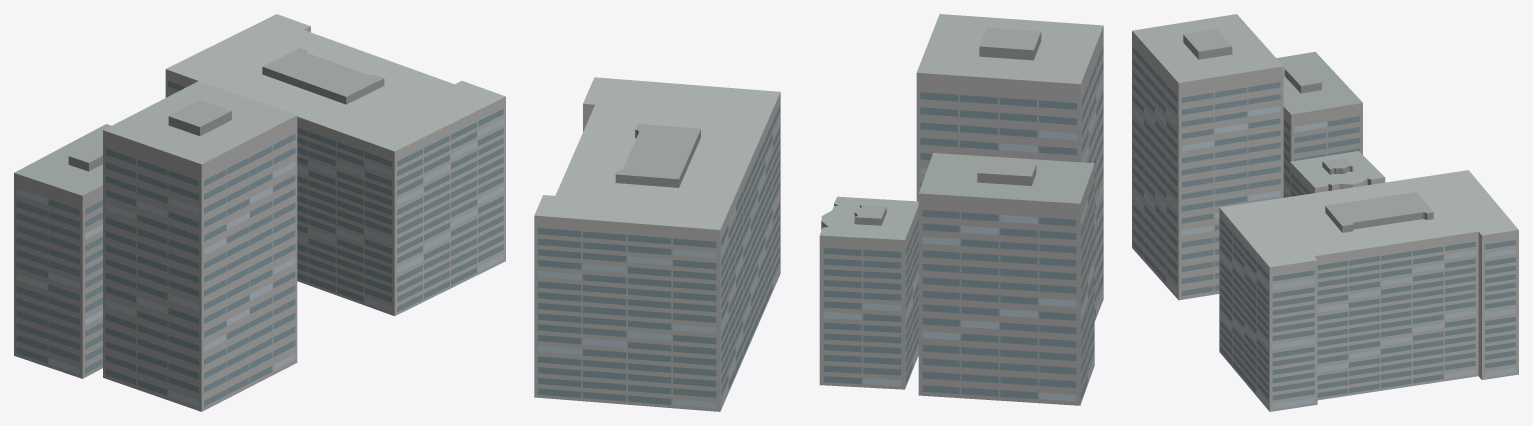
File: apt-a13508003.glb
The picture shows the model from 3 angles, left to right: view 1: azimuth 30°, elevation 25°; view 2: azimuth 150°, elevation 25°; view 3: azimuth 270°, elevation 25°; orthographic projection. The views are drawn at different scales.
Visible parts, largest first — view 1: apt-a13508003; view 2: apt-a13508003; view 3: apt-a13508003.
Part boxes in pixels (x1,y1,x2,y2): apt-a13508003: [14, 14, 505, 411]; apt-a13508003: [534, 14, 1103, 411]; apt-a13508003: [1132, 14, 1518, 411].
Bounding box in the file's own units: 127 × 67 × 104.
